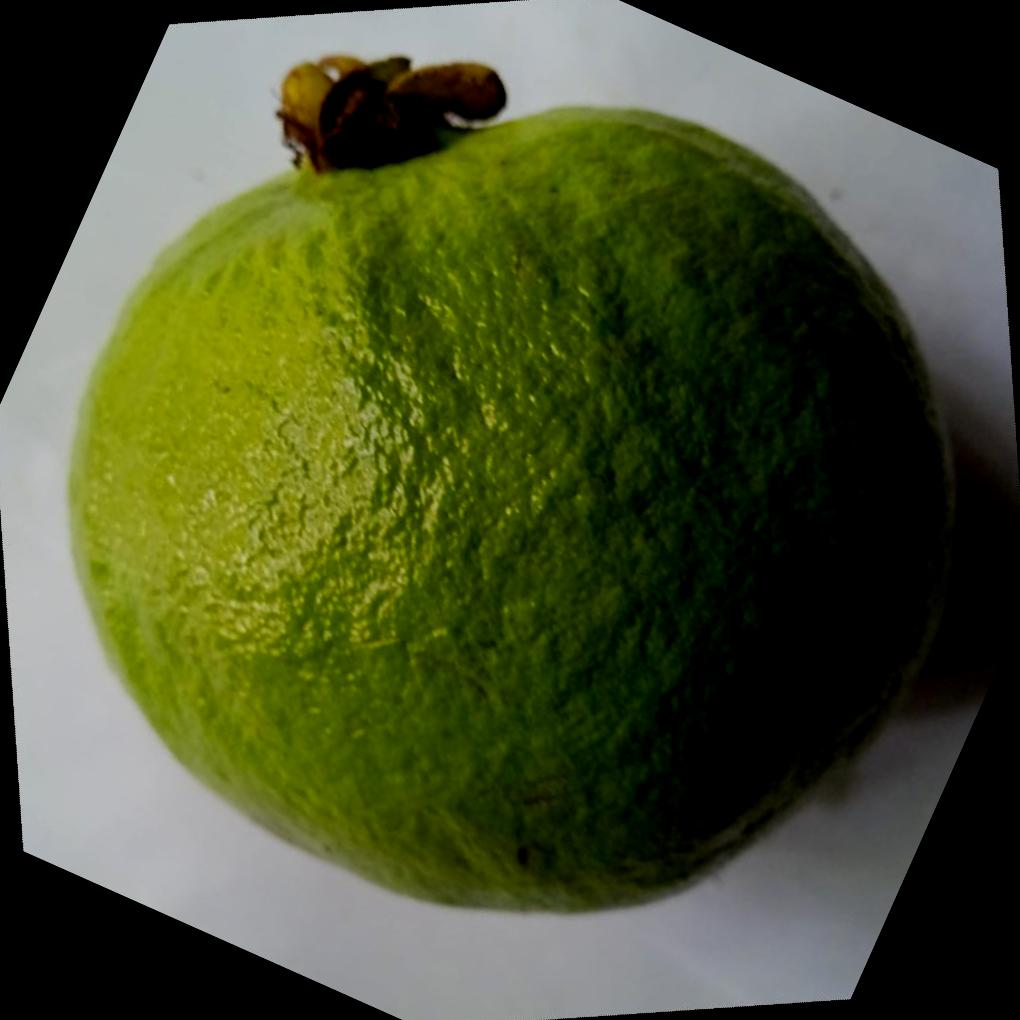FreshGuava: (62, 61, 957, 914)
